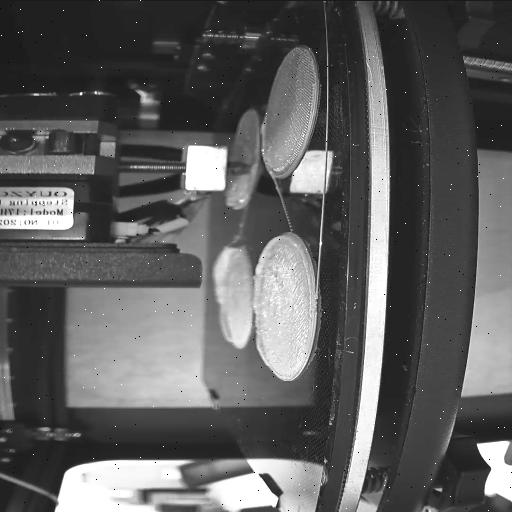over_extrusion: (252, 232, 318, 306), (209, 243, 243, 304), (213, 306, 235, 342), (253, 332, 269, 366), (218, 195, 242, 208), (259, 116, 269, 136)
